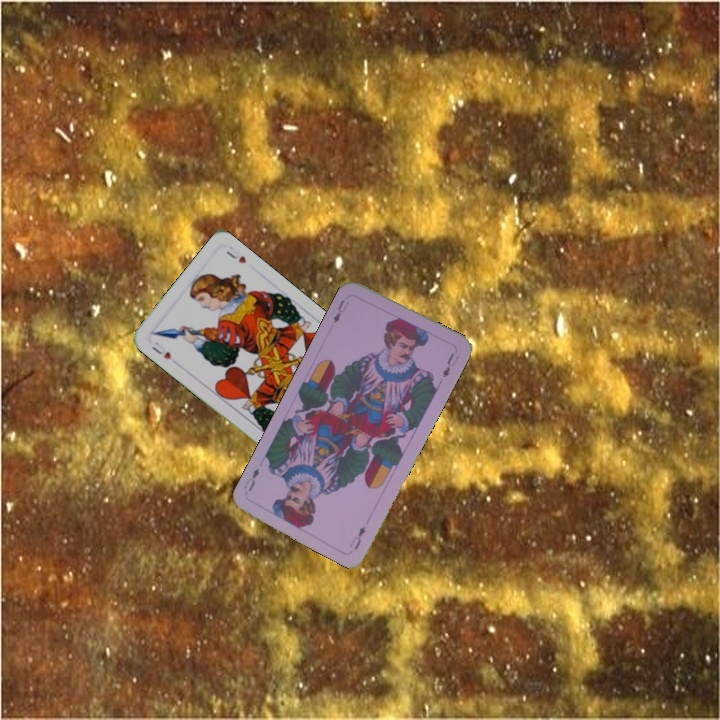EU: (345, 522, 368, 552), (329, 296, 351, 326)
HU: (147, 338, 174, 362)
